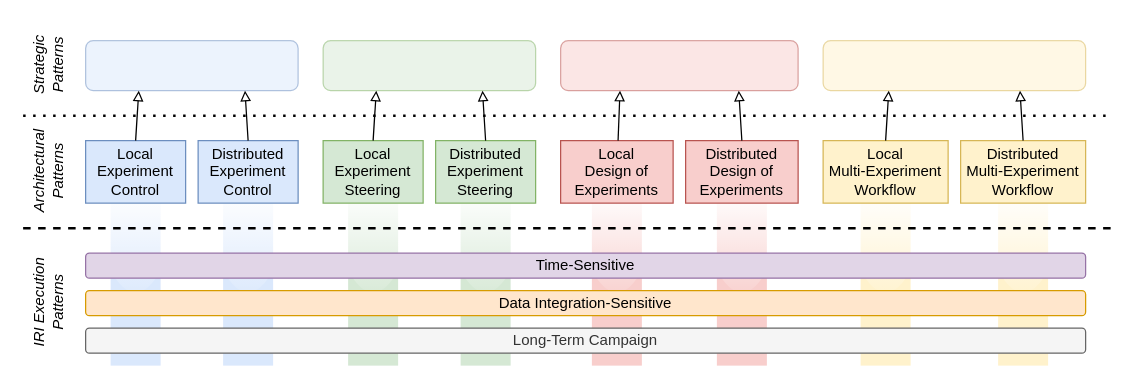
The diagram is 1134 pixels wide and 386 high, and some of its shapes have lost their labels. Here are the shapes that lost their labels. From the top down, the box of each, then its label:
(84, 39, 298, 91): Experiment Control
(322, 39, 536, 91): Experiment Steering
(559, 39, 798, 91): Design of Experiments
(822, 39, 1086, 91): Multi-Experiment Workflow
